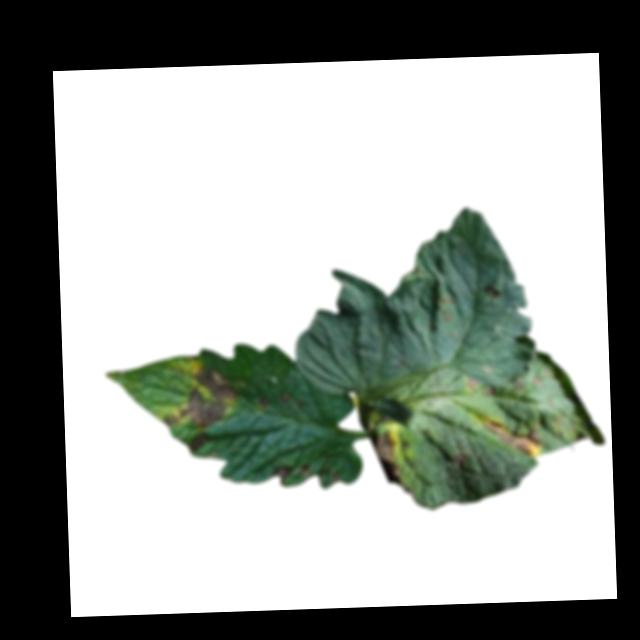Early_blight: (159, 362, 237, 427), (479, 420, 543, 460), (369, 428, 401, 485), (267, 464, 293, 480), (481, 284, 500, 300), (463, 376, 476, 391), (257, 397, 269, 411), (281, 395, 290, 408)
